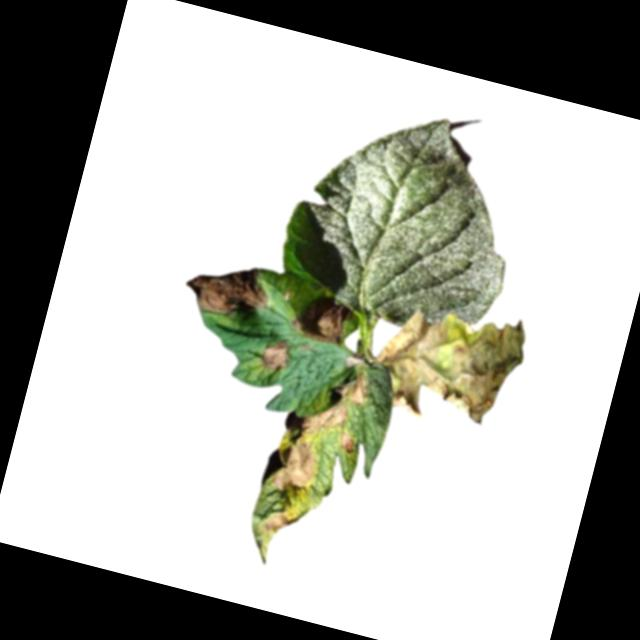Late_blight: (362, 287, 534, 445), (178, 250, 279, 328), (288, 286, 358, 348), (267, 436, 323, 498), (300, 395, 350, 441), (330, 363, 374, 410), (258, 333, 295, 375), (261, 505, 298, 536), (337, 431, 361, 456)
healthy: (268, 83, 542, 351)
